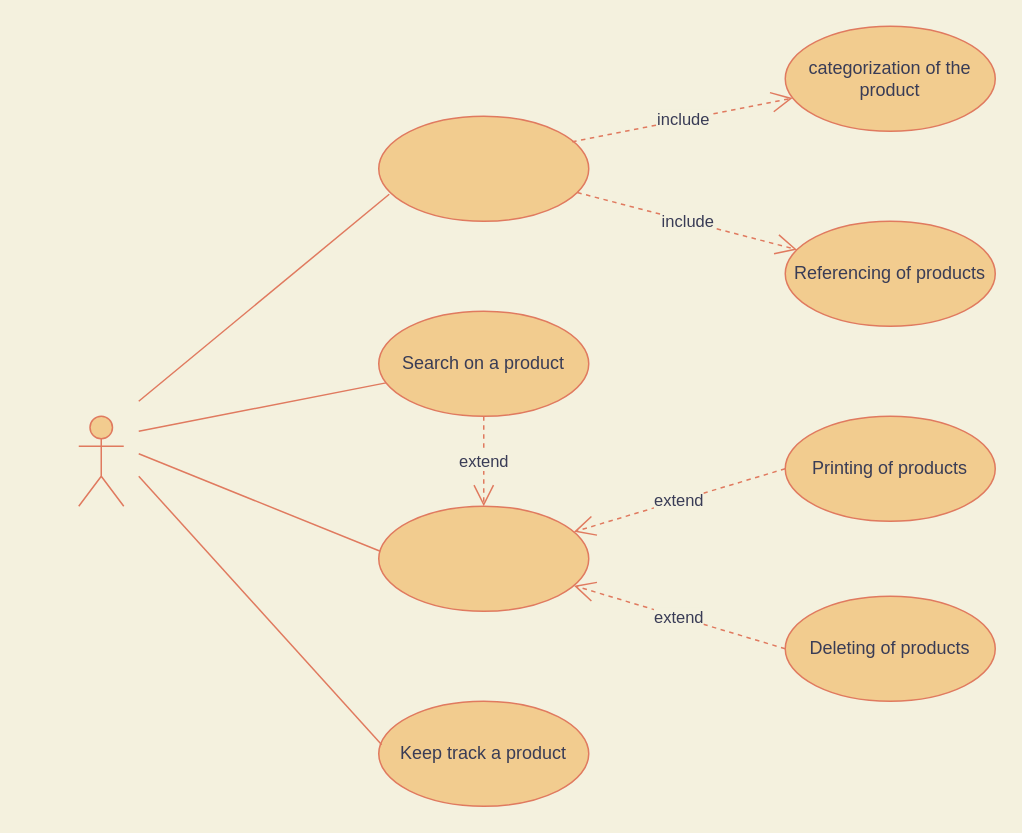
The diagram is 1022 pixels wide and 833 high, and some of its shapes have lost their labels. The centre of each missing label's shape, as x and y in pixels:
"Adding of products" goes at [483,168].
"Display of products" goes at [483,558].
"Inventory Manager" goes at [100,460].
